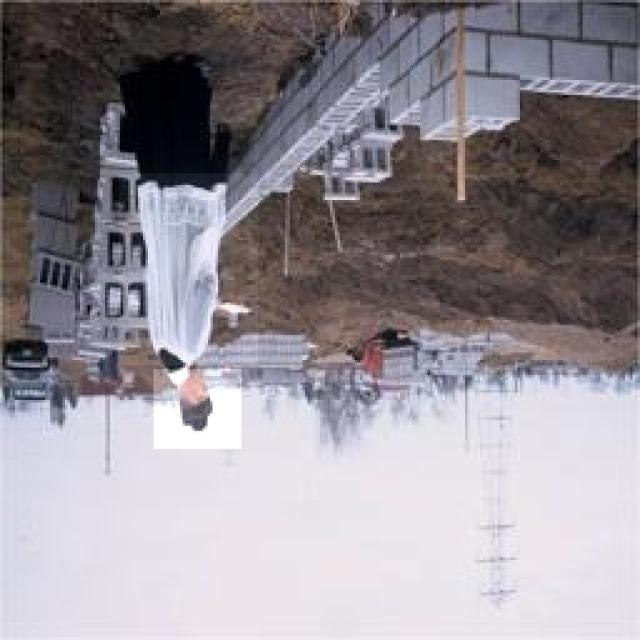Helmet: (119, 174, 258, 366), (154, 369, 242, 449)
